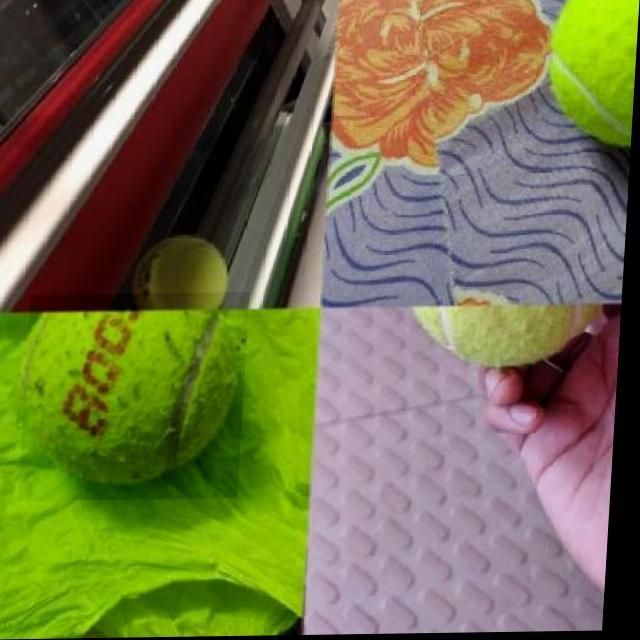-: (25, 293, 254, 502), (559, 0, 640, 145)
